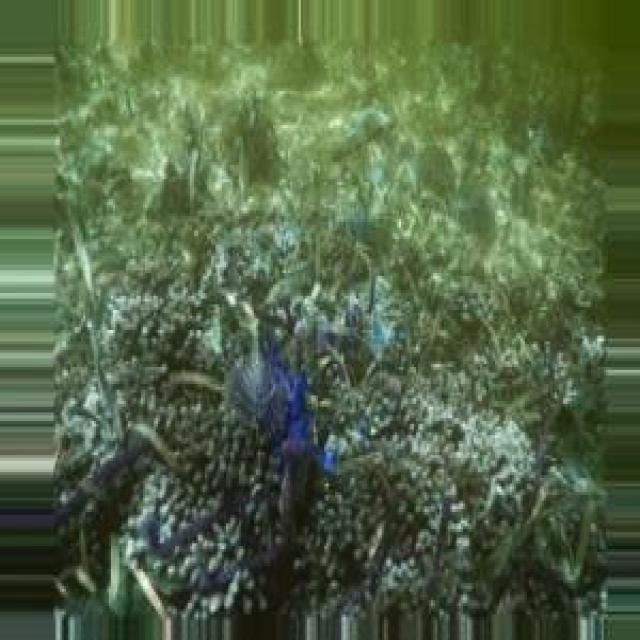Healthy: (54, 41, 607, 640)
